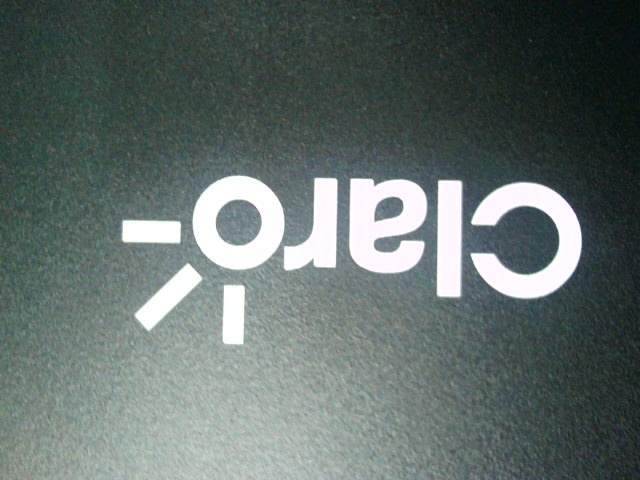BC_Claor: (101, 163, 585, 351)
